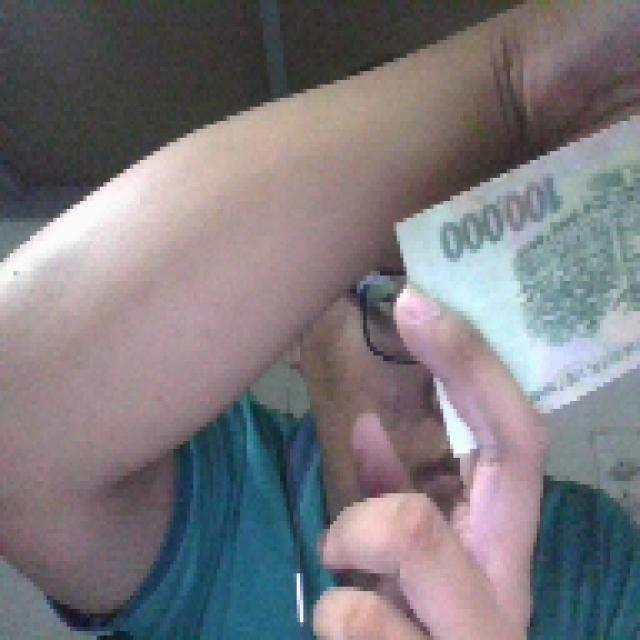100 000 VND: (390, 89, 637, 440)
